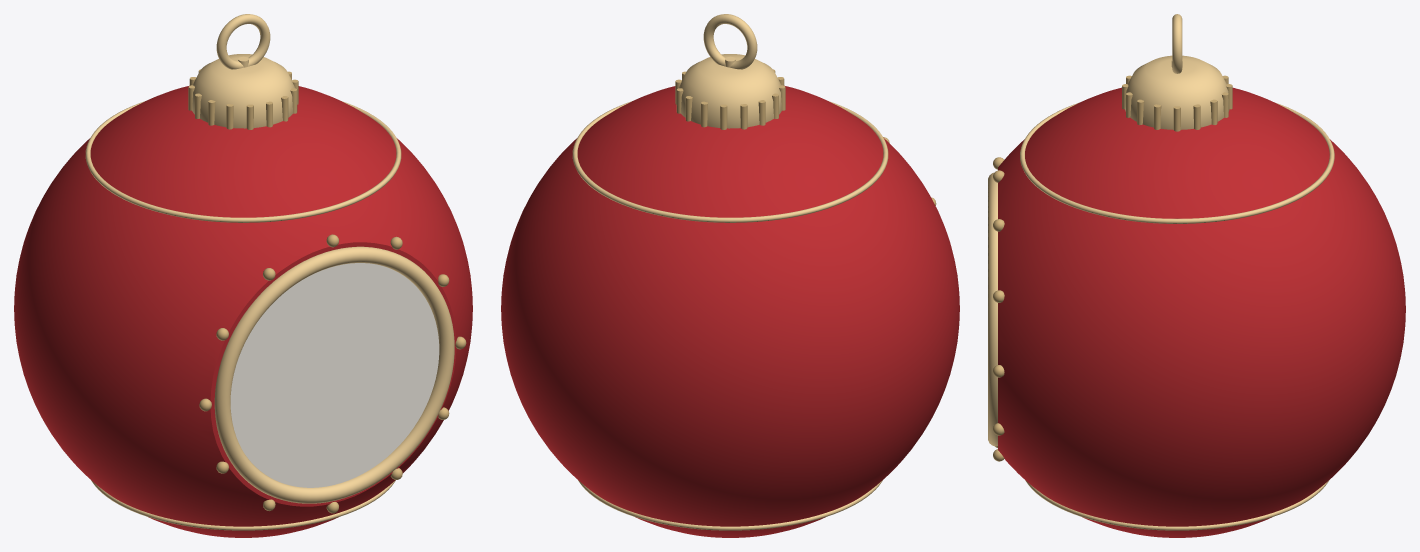
File: ornament.glb
3 renders of one model, left to right at view 1: azimuth 30°, elevation 25°; view 2: azimuth 150°, elevation 25°; view 3: azimuth 270°, elevation 25°, orthographic.
Parts seen in each view (by area): view 1: bauble, Drawing, bezel, cap, stripe0.37, stripe-0.37, loop; view 2: bauble, cap, stripe0.37, stripe-0.37, loop; view 3: bauble, cap, stripe0.37, bezel, stripe-0.37, loop.
Part boxes in pixels (left/top/right/bottom): bauble: left=14, top=85, right=472, bottom=537; Drawing: left=230, top=263, right=439, bottom=487; bezel: left=214, top=246, right=454, bottom=503; cap: left=192, top=54, right=294, bottom=128; stripe0.37: left=85, top=101, right=401, bottom=222; stripe-0.37: left=91, top=480, right=395, bottom=530; loop: left=216, top=14, right=270, bottom=69; bauble: left=501, top=85, right=959, bottom=537; cap: left=679, top=54, right=781, bottom=128; stripe0.37: left=572, top=101, right=888, bottom=222; stripe-0.37: left=578, top=480, right=882, bottom=530; loop: left=703, top=14, right=757, bottom=69; bauble: left=998, top=87, right=1405, bottom=537; cap: left=1125, top=55, right=1229, bottom=129; stripe0.37: left=1020, top=102, right=1334, bottom=223; bezel: left=988, top=172, right=997, bottom=446; stripe-0.37: left=1025, top=480, right=1328, bottom=530; loop: left=1172, top=14, right=1182, bottom=73.
Bounding box in the file's own units: 1 × 1.21 × 0.9138.
